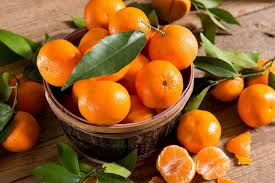orange: (73, 23, 130, 78), (148, 21, 197, 69), (134, 59, 184, 106), (78, 81, 130, 124), (35, 39, 81, 87), (178, 106, 223, 152), (234, 81, 275, 130), (110, 8, 154, 48), (205, 65, 243, 99)
